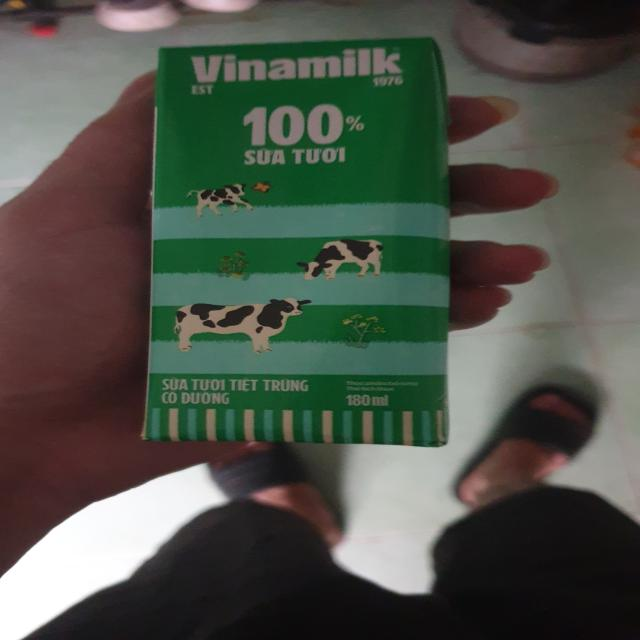Vina: (142, 35, 451, 451)
